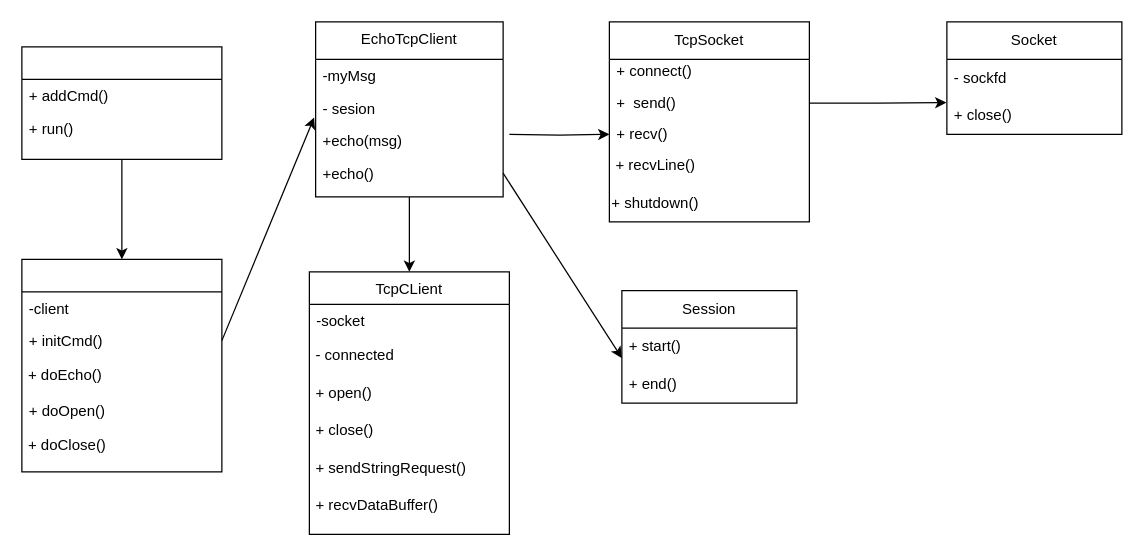
This 1144x556 diagram has some shape labels left out. The shapes that lost their labels are listed below. From the top down, each one's box as (x1, y1, x2, y2) in pixels, then its label:
(21, 46, 222, 159): CmdLineInterface
(21, 258, 222, 472): EchoCLI
